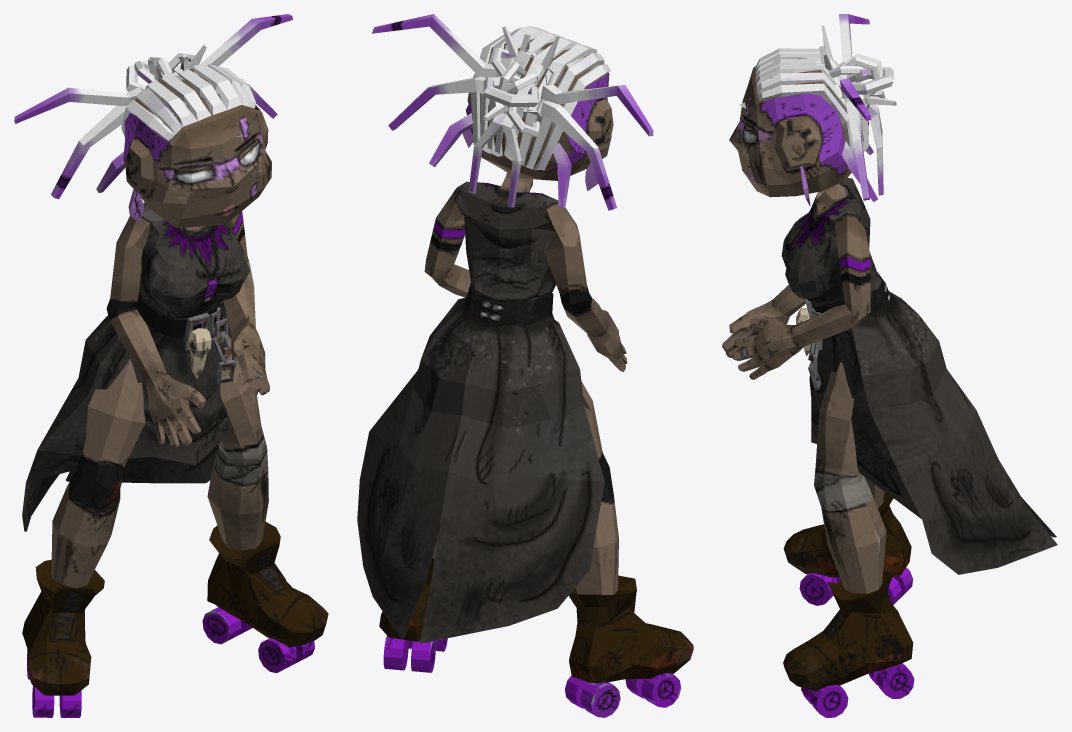
Rendered from bruja_000035.obj.
3 views of the same model, side by side, from view 1: azimuth 30°, elevation 25°; view 2: azimuth 150°, elevation 25°; view 3: azimuth 270°, elevation 25° (orthographic). The views are drawn at different scales.
Visible parts, largest first — view 1: Bruja_Plane.001; view 2: Bruja_Plane.001; view 3: Bruja_Plane.001.
Boxes of the visible parts, x1,y1,x2,y2 form: Bruja_Plane.001: (14, 14, 328, 717); Bruja_Plane.001: (357, 14, 693, 717); Bruja_Plane.001: (722, 14, 1057, 717).
Bounding box in the file's own units: 7.83 × 16.37 × 8.02.
